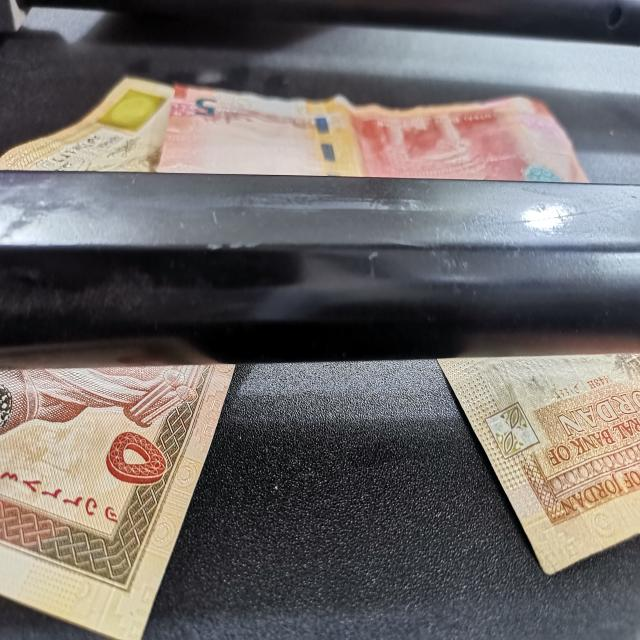5-dinar: (0, 72, 261, 636), (432, 314, 640, 574), (155, 85, 595, 184)
